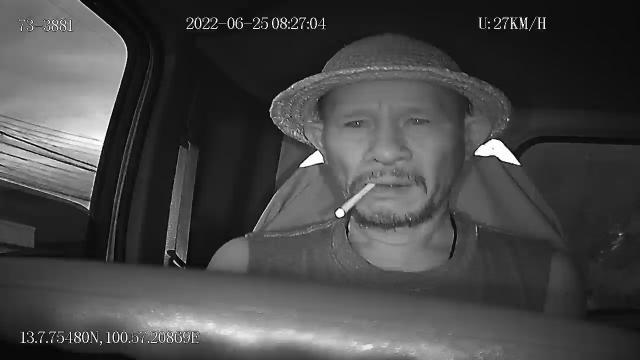SafeDriving: (398, 106, 438, 132), (338, 110, 377, 133)
Smoking: (336, 182, 376, 218)
